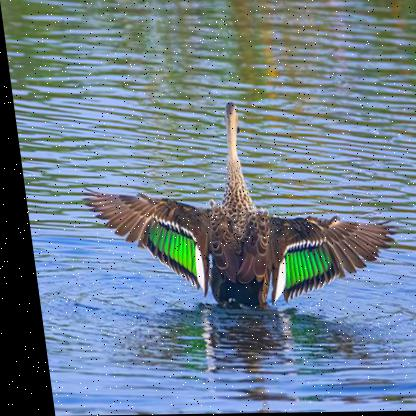Burung: (67, 100, 398, 311)
